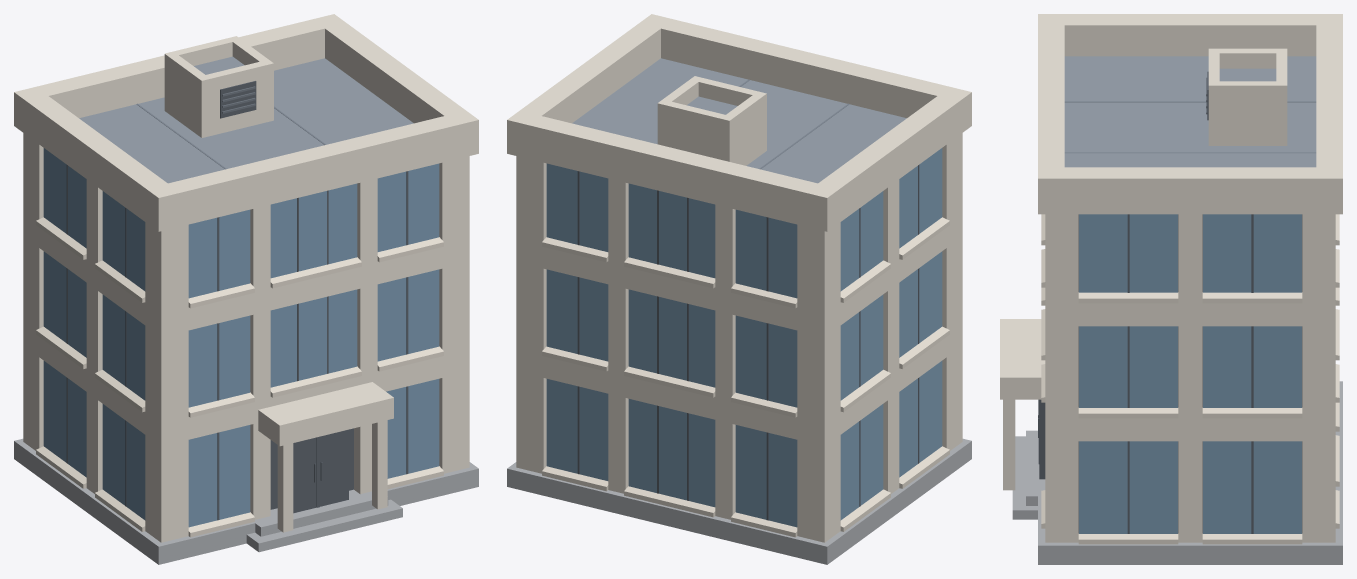
File: office building.fbx
3 views of the same model, side by side, from view 1: azimuth 30°, elevation 25°; view 2: azimuth 150°, elevation 25°; view 3: azimuth 270°, elevation 25° (orthographic). The views are drawn at different scales.
Parts seen in each view (by area): view 1: Base_Plinth; view 2: Base_Plinth; view 3: Base_Plinth.
Boxes of the visible parts, left/top/right/bottom form: Base_Plinth: left=14, top=14, right=478, bottom=564; Base_Plinth: left=507, top=14, right=971, bottom=564; Base_Plinth: left=1000, top=14, right=1342, bottom=564.
Size of the model in its own units: 644 by 758 by 567.
